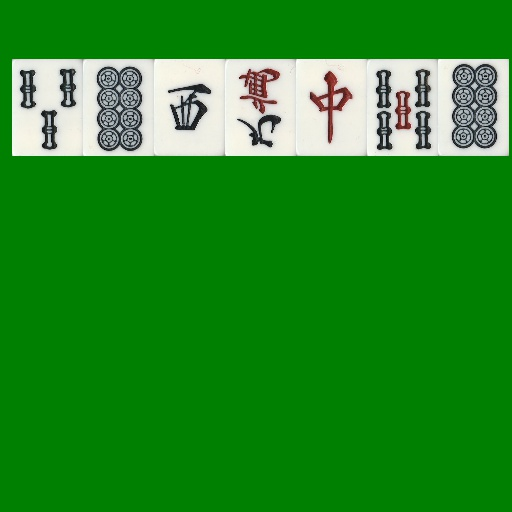3s: (12, 59, 83, 156)
5s: (367, 59, 438, 156)
8p: (83, 59, 154, 156), (438, 59, 509, 156)
9m: (225, 59, 296, 156)
tyun: (296, 59, 367, 156)
west: (154, 59, 225, 156)
